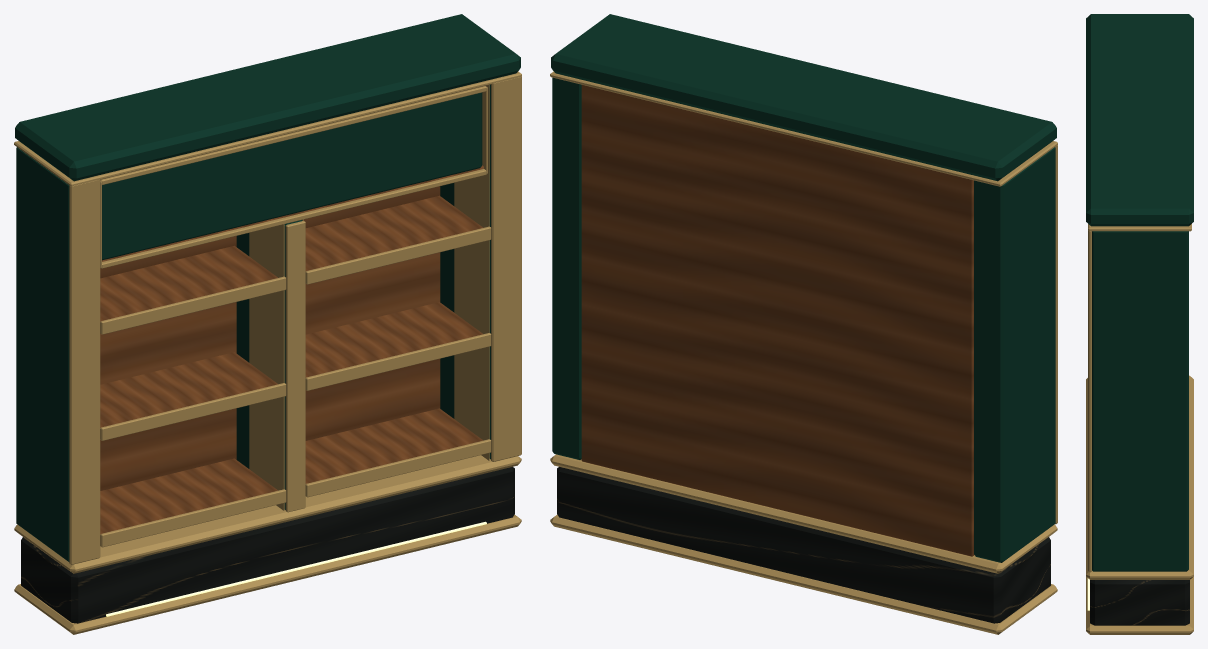
The picture shows the model from 3 angles, left to right: view 1: azimuth 30°, elevation 25°; view 2: azimuth 150°, elevation 25°; view 3: azimuth 270°, elevation 25°; orthographic projection. The views are drawn at different scales.
Parts seen in each view (by area): view 1: cabinet_crown, cabinet_back, brand_header_panel, cabinet_stone_base, cabinet_left_pillar, trim_left_front, trim_right_front, trim_base_top, trim_right_inner, trim_middle_left_lining, shelf_2_right, shelf_1_right (+19 smaller); view 2: cabinet_back, cabinet_crown, cabinet_left_pillar, cabinet_stone_base, cabinet_right_pillar, trim_base_top, trim_base_plinth, trim_crown_lip, trim_left_front; view 3: cabinet_right_pillar, cabinet_crown, cabinet_stone_base, trim_base_top, trim_base_plinth, trim_right_front, trim_crown_lip.
Part boxes in pixels (left/top/right/bottom): cabinet_crown: left=15, top=14, right=520, bottom=181; cabinet_back: left=100, top=186, right=440, bottom=490; brand_header_panel: left=102, top=92, right=482, bottom=260; cabinet_stone_base: left=21, top=467, right=514, bottom=623; cabinet_left_pillar: left=16, top=147, right=69, bottom=561; trim_left_front: left=69, top=179, right=100, bottom=564; trim_right_front: left=491, top=76, right=521, bottom=461; trim_base_top: left=14, top=455, right=521, bottom=573; trim_right_inner: left=454, top=85, right=489, bottom=460; trim_middle_left_lining: left=249, top=224, right=284, bottom=510; shelf_2_right: left=305, top=302, right=483, bottom=377; shelf_1_right: left=305, top=408, right=483, bottom=483; cabinet_back: left=581, top=85, right=974, bottom=556; cabinet_crown: left=551, top=14, right=1056, bottom=181; cabinet_left_pillar: left=974, top=147, right=1055, bottom=562; cabinet_stone_base: left=557, top=467, right=1050, bottom=623; cabinet_right_pillar: left=552, top=77, right=581, bottom=459; trim_base_top: left=550, top=454, right=1057, bottom=573; trim_base_plinth: left=550, top=514, right=1057, bottom=634; trim_crown_lip: left=550, top=71, right=1057, bottom=186; trim_left_front: left=1055, top=145, right=1057, bottom=524; cabinet_right_pillar: left=1092, top=231, right=1188, bottom=571; cabinet_crown: left=1086, top=14, right=1193, bottom=226; cabinet_stone_base: left=1090, top=580, right=1189, bottom=625; trim_base_top: left=1086, top=375, right=1193, bottom=579; trim_base_plinth: left=1086, top=576, right=1193, bottom=634; trim_right_front: left=1088, top=230, right=1091, bottom=572; trim_crown_lip: left=1088, top=224, right=1191, bottom=231.
Size of the model in its own units: 2.4 by 2.4 by 0.55.
Materials: 5 (2 with a texture image).
